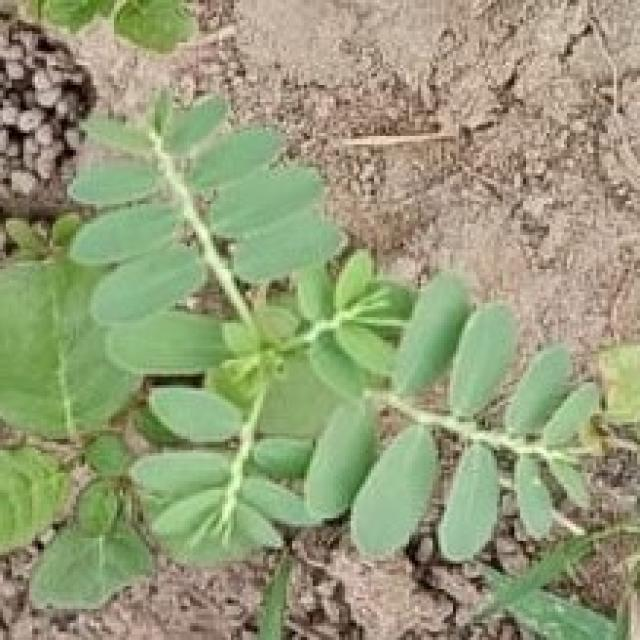plant: (3, 93, 602, 610)
